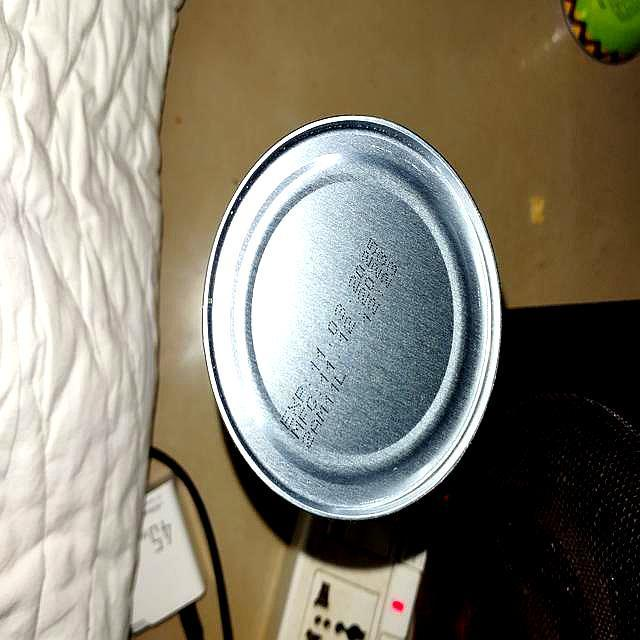Non-biodegradable: (204, 115, 507, 520)
